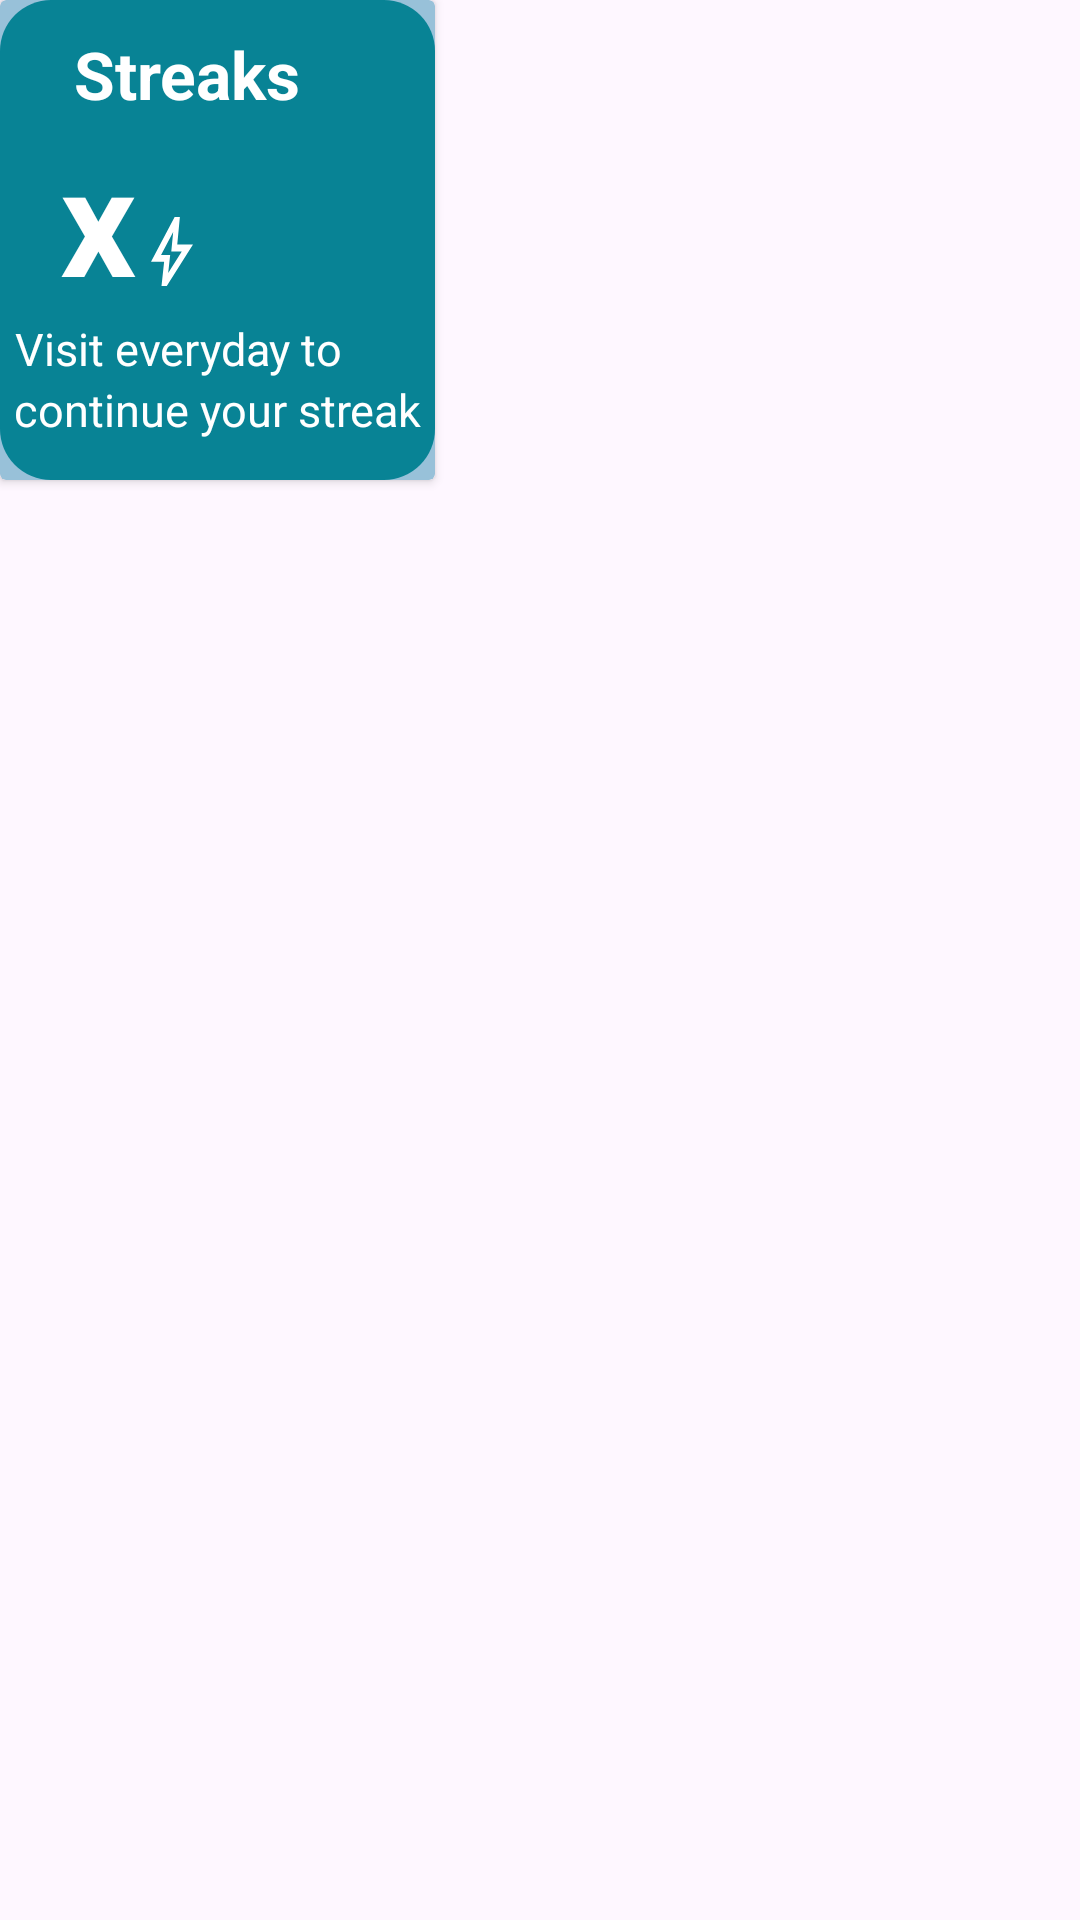

Named icons in this screenshot (1080×1920) and their centers, (x,y):
bolt: (172,251)
